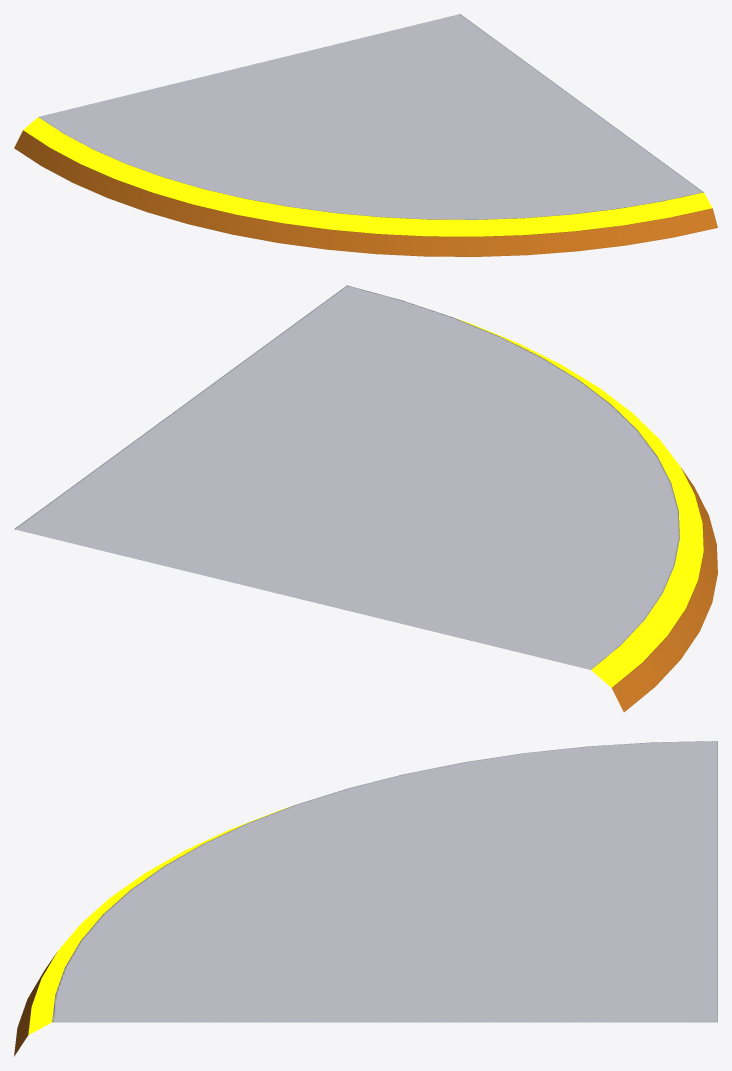
Rendered from Plate_Form_Small_01_LP.FBX.
The picture shows the model from 3 angles, top to bottom: view 1: azimuth 30°, elevation 25°; view 2: azimuth 150°, elevation 25°; view 3: azimuth 270°, elevation 25°; orthographic projection. The views are drawn at different scales.
Visible parts, largest first — view 1: Plate_Form_Small_01_LP; view 2: Plate_Form_Small_01_LP; view 3: Plate_Form_Small_01_LP.
Boxes of the visible parts, x1=… form: Plate_Form_Small_01_LP: x1=14, y1=14, x2=717, y2=256; Plate_Form_Small_01_LP: x1=14, y1=285, x2=717, y2=712; Plate_Form_Small_01_LP: x1=14, y1=741, x2=717, y2=1056.
Bounding box in the file's own units: 5.96 × 0.3227 × 5.96.
Materials: 2 (1 with a texture image).
